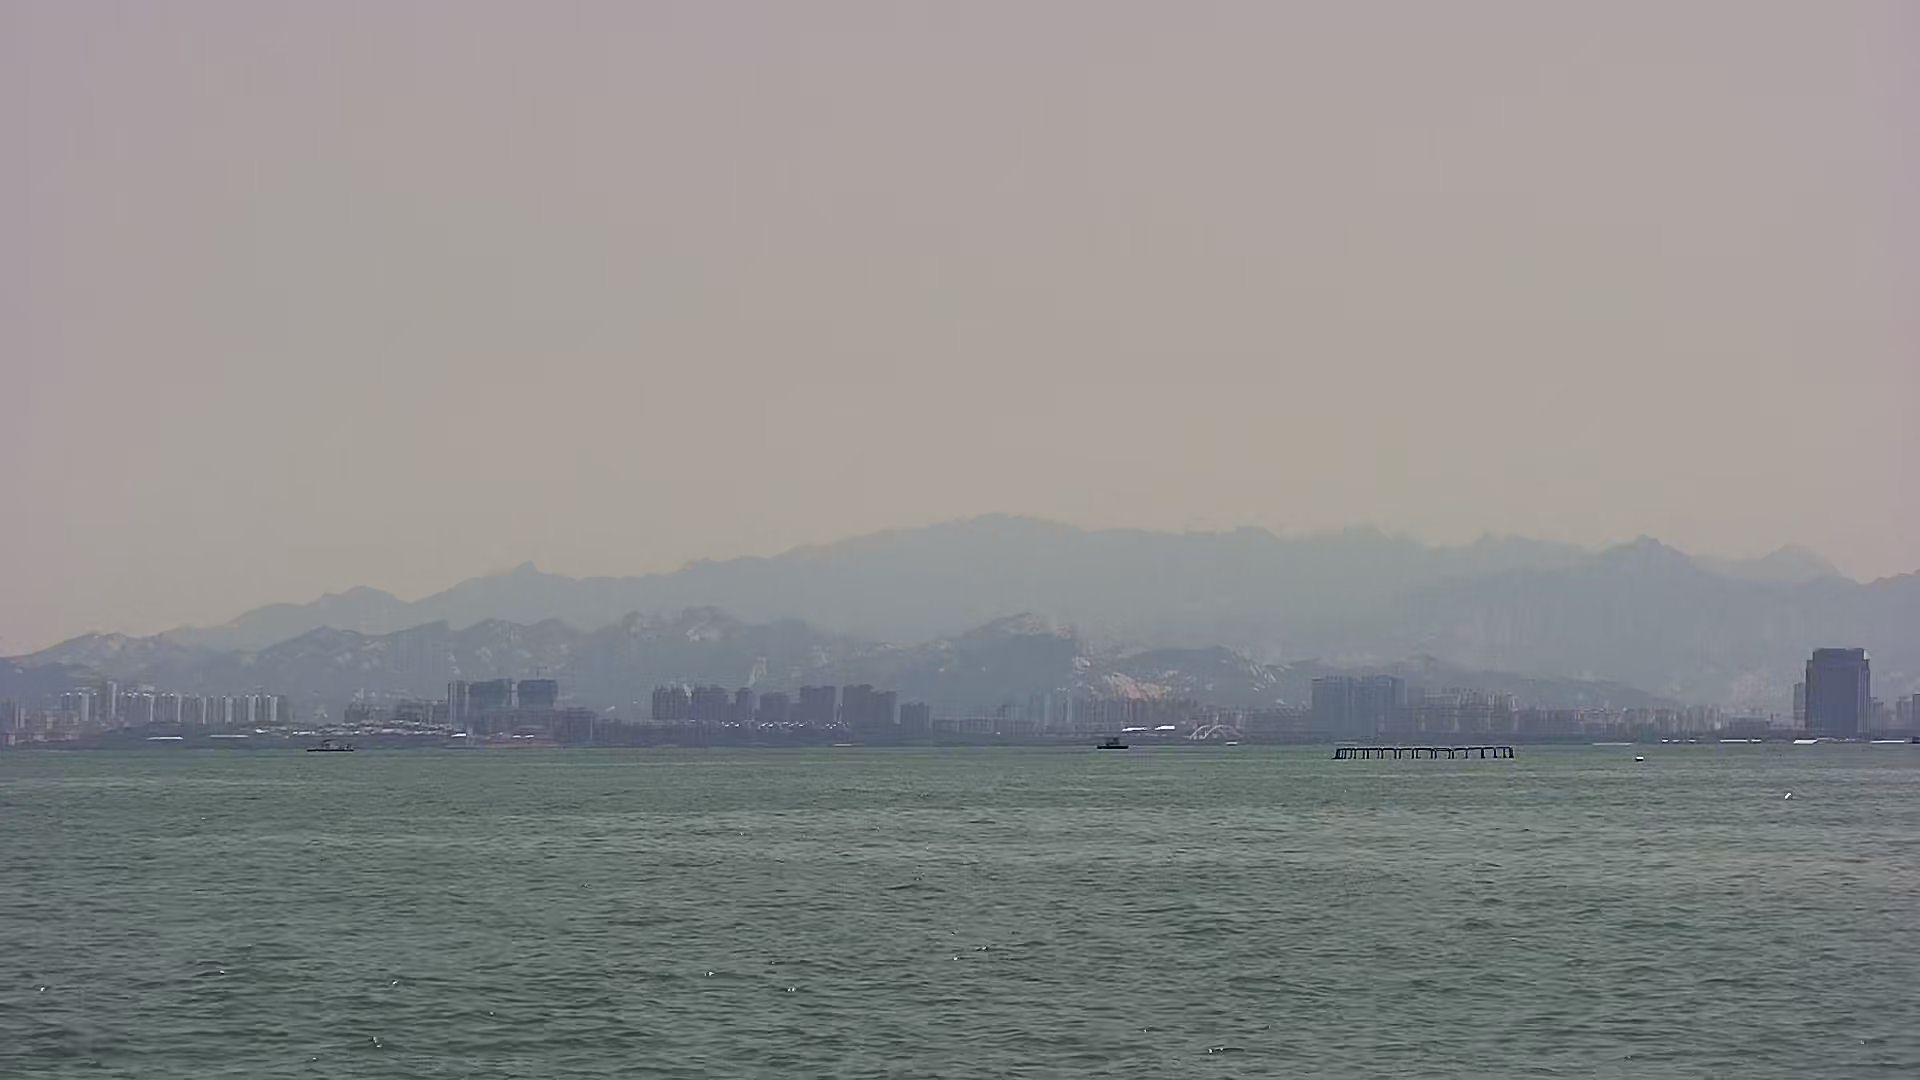platform: (1331, 738, 1520, 769)
ship: (1091, 723, 1134, 762)
